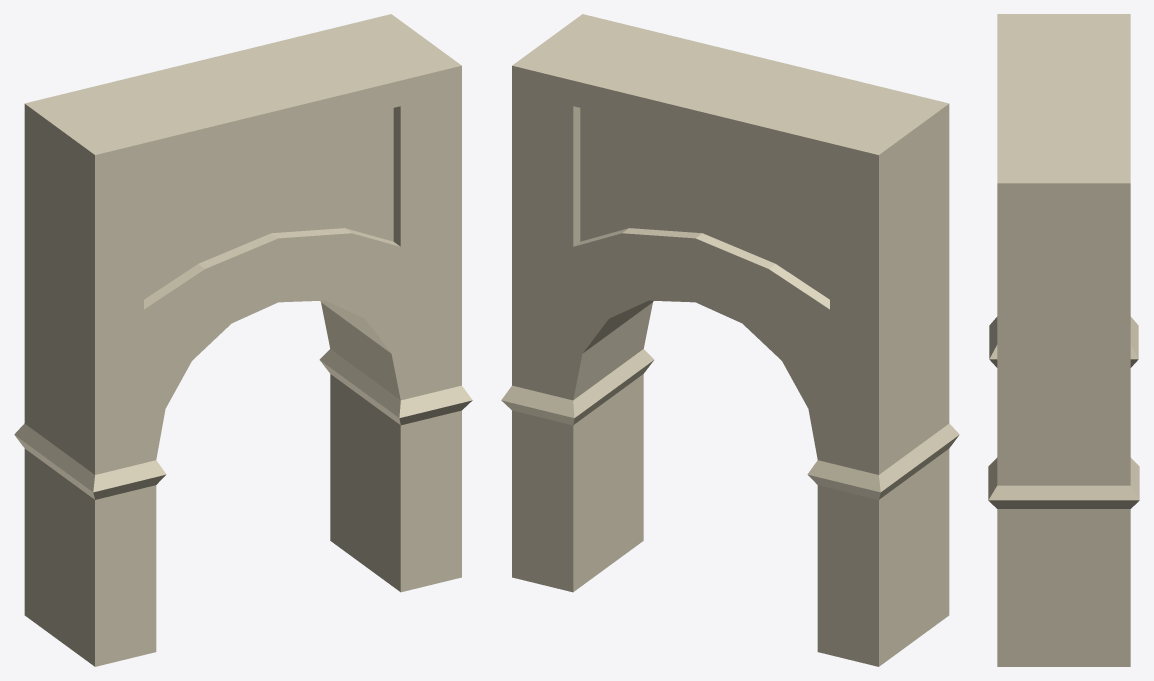
The model's file is roman_arch_med.fbx.
The picture shows the model from 3 angles, left to right: view 1: azimuth 30°, elevation 25°; view 2: azimuth 150°, elevation 25°; view 3: azimuth 270°, elevation 25°; orthographic projection. The views are drawn at different scales.
Visible parts, largest first — view 1: Circle.006; view 2: Circle.006; view 3: Circle.006.
Part boxes in pixels (x1=…): Circle.006: x1=14, y1=14, x2=472, y2=666; Circle.006: x1=501, y1=14, x2=959, y2=666; Circle.006: x1=988, y1=14, x2=1139, y2=666.
Bounding box in the file's own units: 3.1 × 4 × 1.13.
